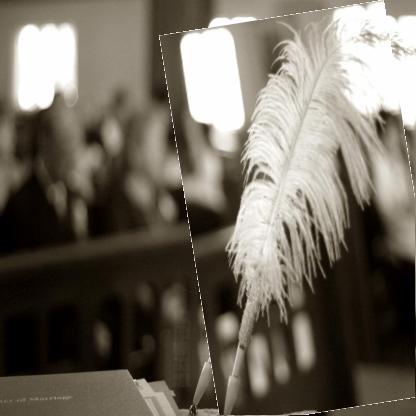Pen: (174, 7, 415, 415)
